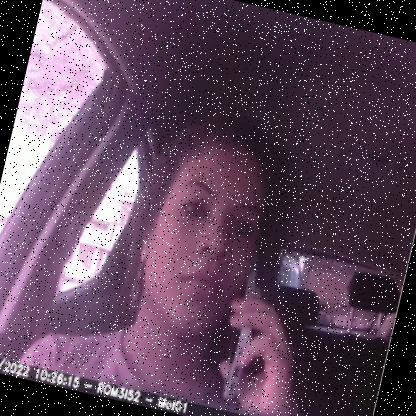phone: (210, 250, 292, 408)
